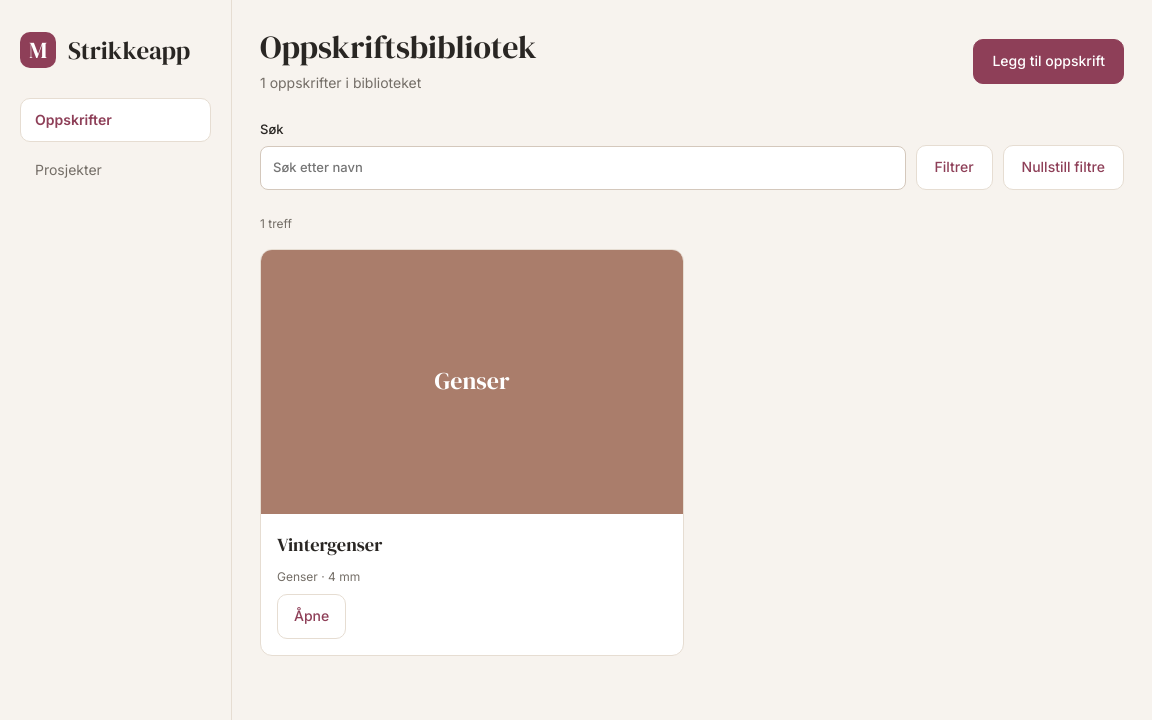
recipe empty states › distinguishes unmatched search from an empty library and restores results
Type "Sokker" into the search field labelled "Søk" at (583,168), box [260,146,906,190]
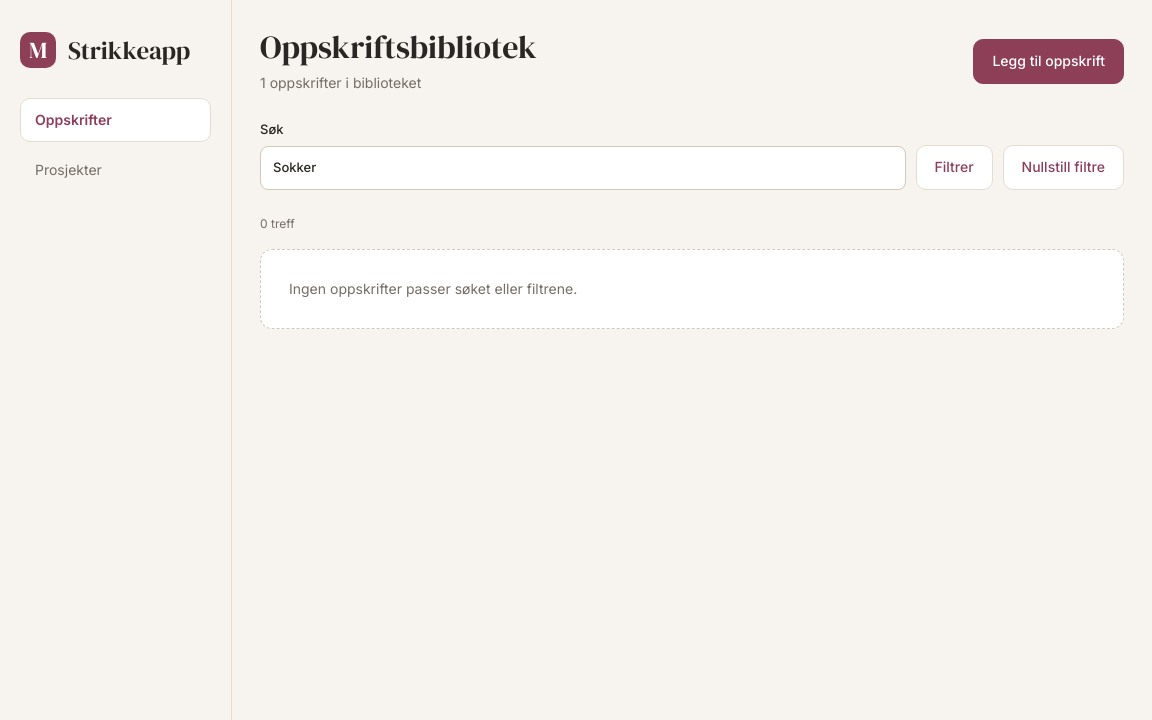
Result: the message reads "Ingen oppskrifter passer søket eller filtrene." at [289,280,577,297]
Result: the heading "Vintergenser" is gone
Click the button "Nullstill filtre" at (1063,167), box [1003,145,1124,190]
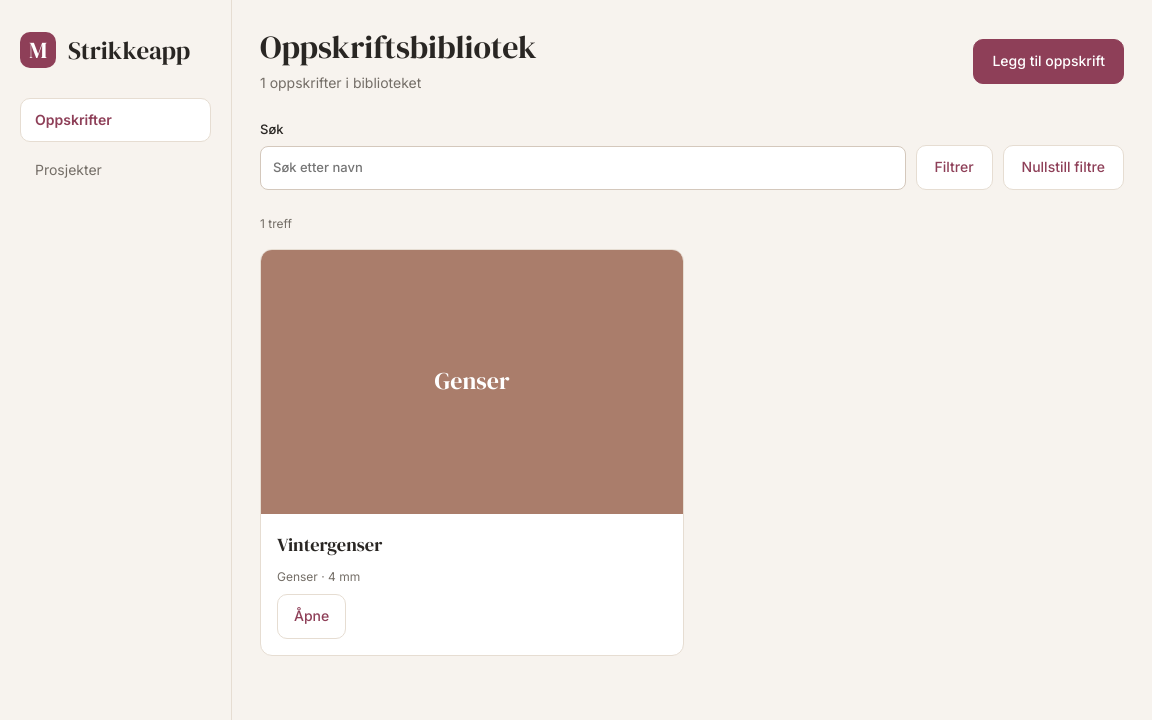
Result: the search field labelled "Søk" is empty at [260,146,906,190]
Result: the heading "Vintergenser" is shown at [277,532,382,556]
Result: the message "Ingen oppskrifter passer søket eller filtrene." is gone
